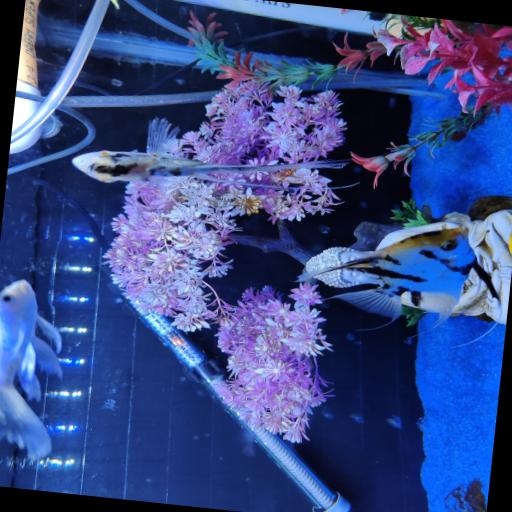Fish: (73, 118, 348, 189), (299, 227, 487, 326), (0, 280, 62, 459)
